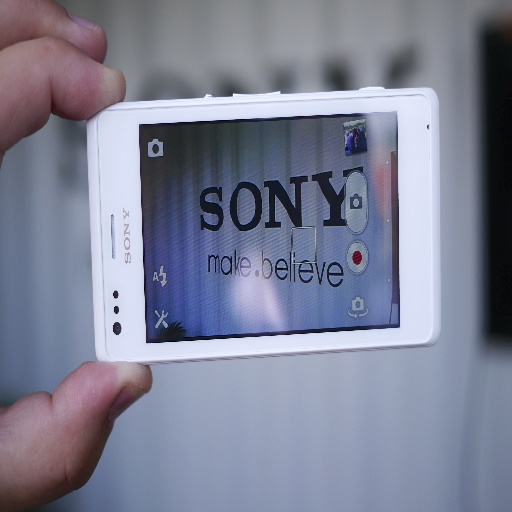hand: (0, 0, 152, 511)
